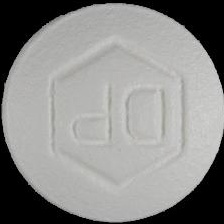50419-405: (0, 0, 224, 224)
